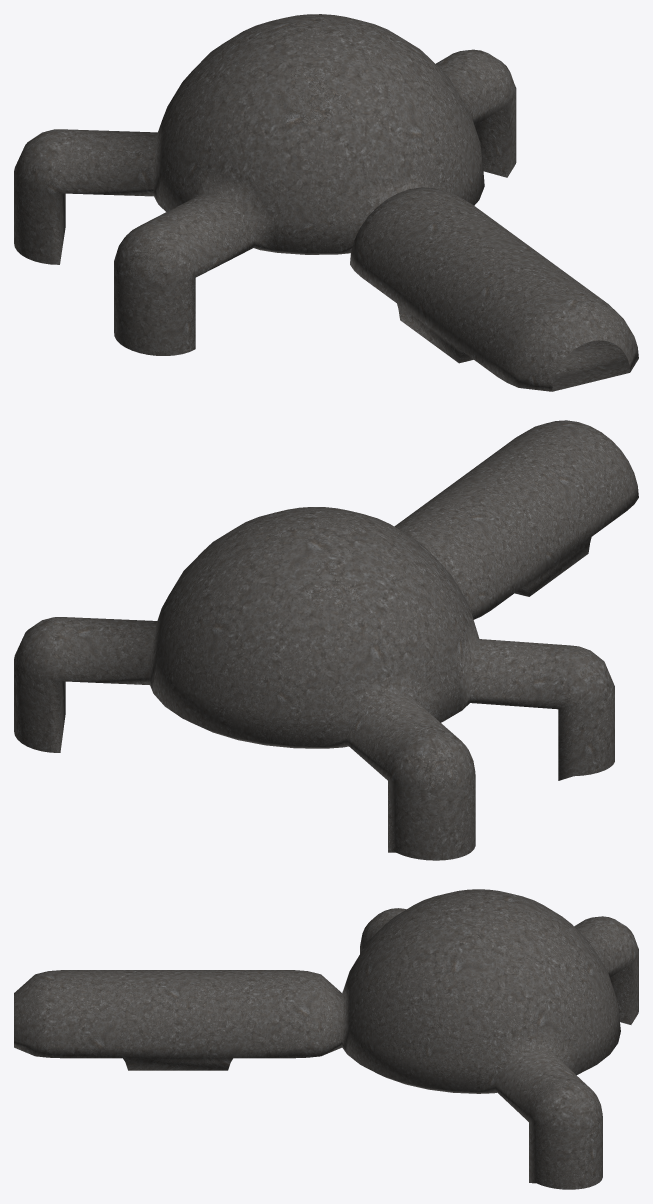
The model's file is StomachLevel.fbx.
3 renders of one model, top to bottom at view 1: azimuth 30°, elevation 25°; view 2: azimuth 150°, elevation 25°; view 3: azimuth 270°, elevation 25°, orthographic. The views are drawn at different scales.
Visible parts, largest first — view 1: StomachLevel; view 2: StomachLevel; view 3: StomachLevel.
Part boxes in pixels (x1=…): StomachLevel: x1=14, y1=14, x2=638, y2=391; StomachLevel: x1=14, y1=420, x2=638, y2=860; StomachLevel: x1=14, y1=889, x2=638, y2=1189.
Size of the model in its own units: 4549 by 1990 by 5943.
